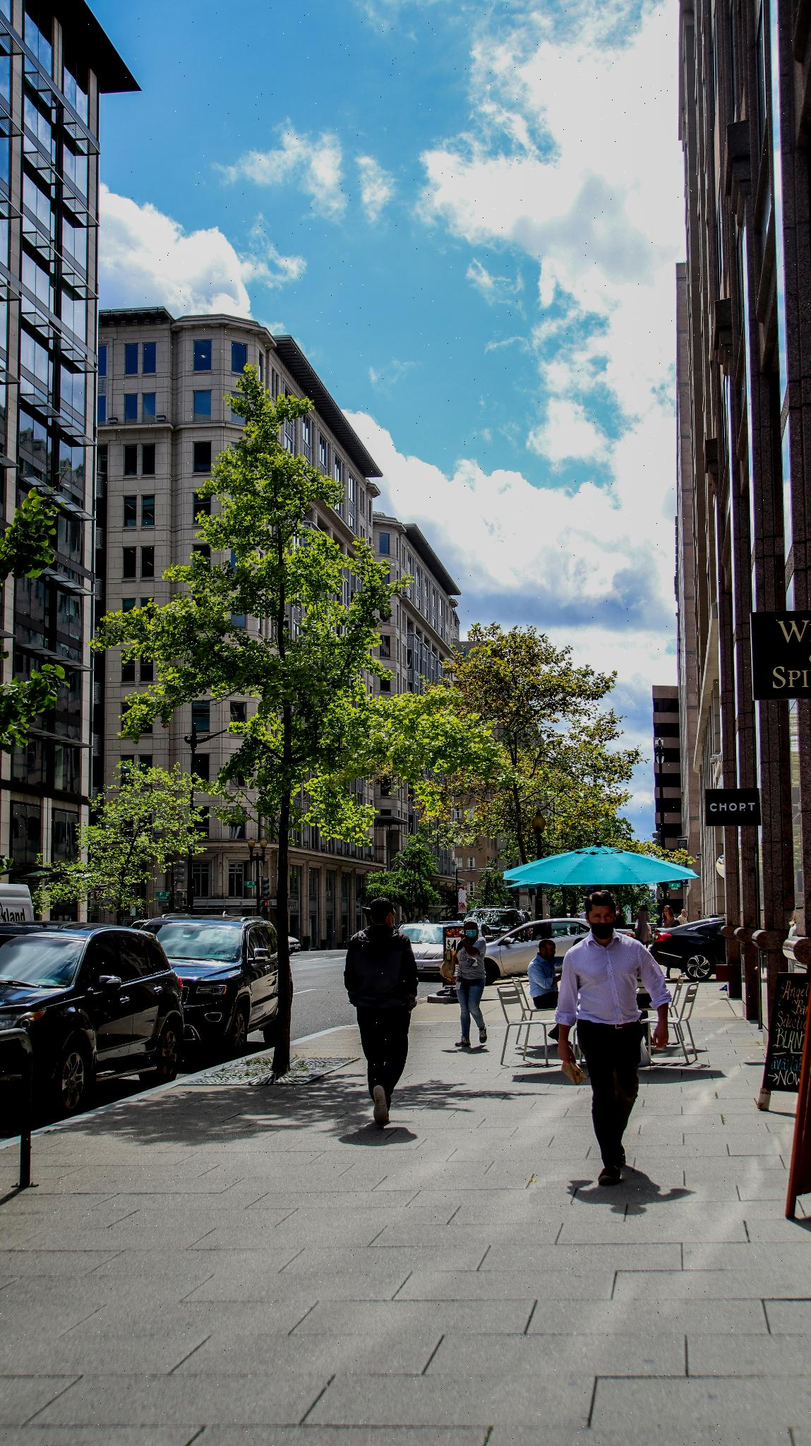car: (0, 923, 181, 1121), (152, 914, 279, 1063), (401, 923, 470, 998), (653, 918, 729, 981), (398, 925, 445, 980), (0, 884, 35, 927)
pedestrian: (556, 887, 674, 1190), (345, 901, 418, 1127), (457, 920, 490, 1050), (528, 920, 564, 1009)
